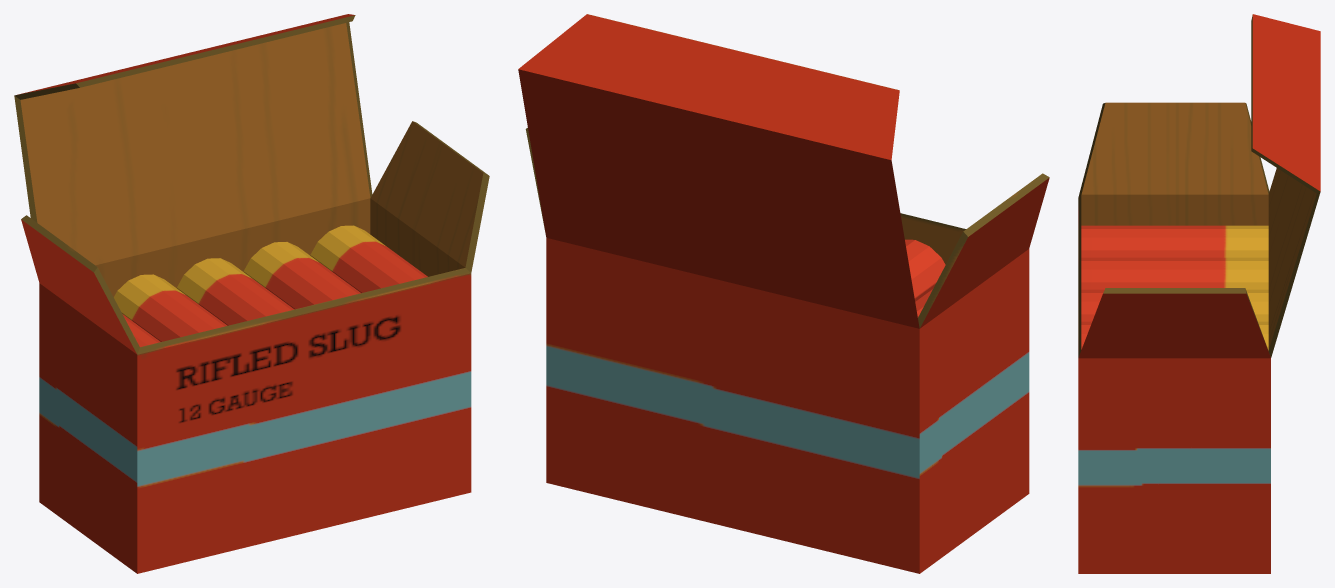
Rendered from shotgunshells.glb.
The picture shows the model from 3 angles, left to right: view 1: azimuth 30°, elevation 25°; view 2: azimuth 150°, elevation 25°; view 3: azimuth 270°, elevation 25°; orthographic projection. The views are drawn at different scales.
Parts seen in each view (by area): view 1: Cube, shell top; view 2: Cube, shell top; view 3: Cube, shell top.
Boxes of the visible parts, x1,y1,x2,y2 form: Cube: (14,14,489,573); shell top: (114,225,427,346); Cube: (518,14,1049,573); shell top: (905,239,945,317); Cube: (1078,14,1320,573); shell top: (1081,225,1268,350).
Bounding box in the file's own units: 0.1555 × 0.1573 × 0.0837.
2 materials, 2 textured.
